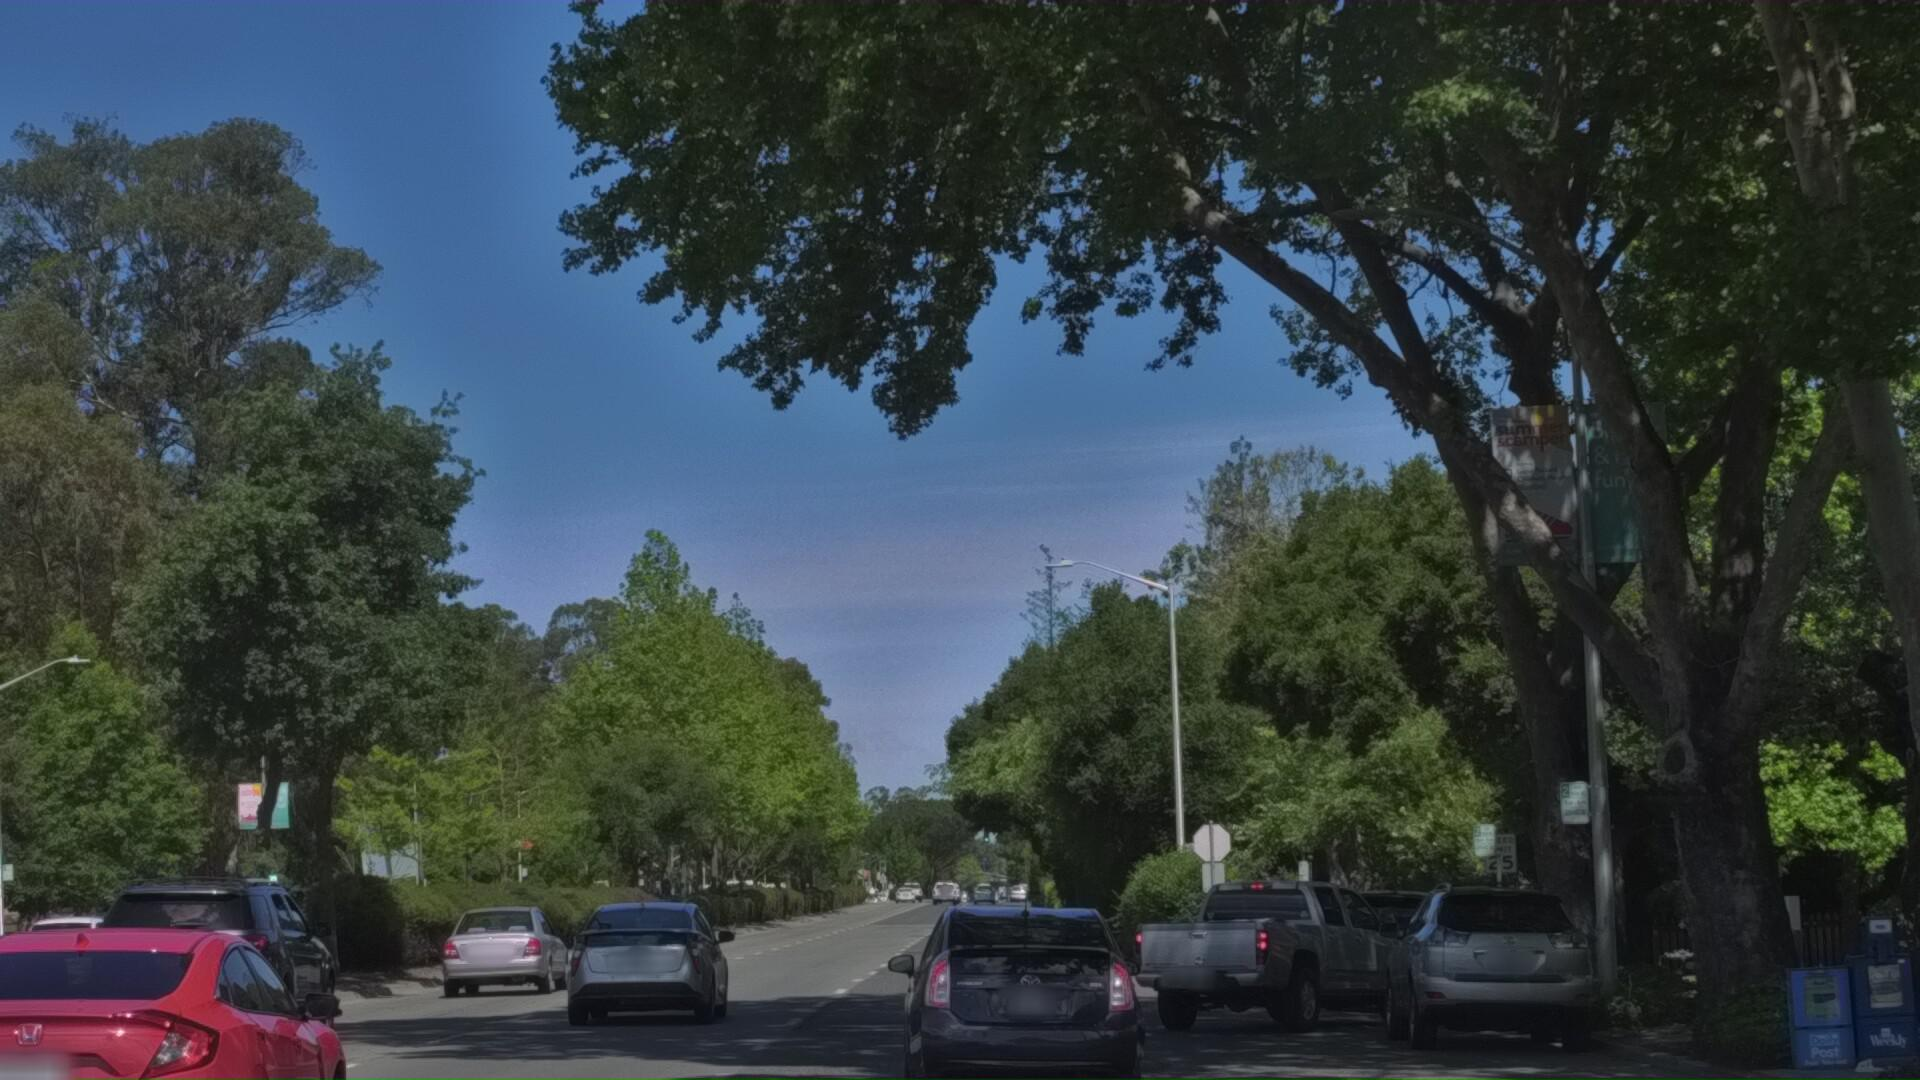car: (1116, 947, 1466, 1080), (0, 959, 369, 1080), (95, 938, 375, 1080), (876, 971, 1176, 1080), (1367, 952, 1614, 1080), (551, 975, 742, 1080), (439, 978, 585, 1080), (0, 1004, 132, 1080)
